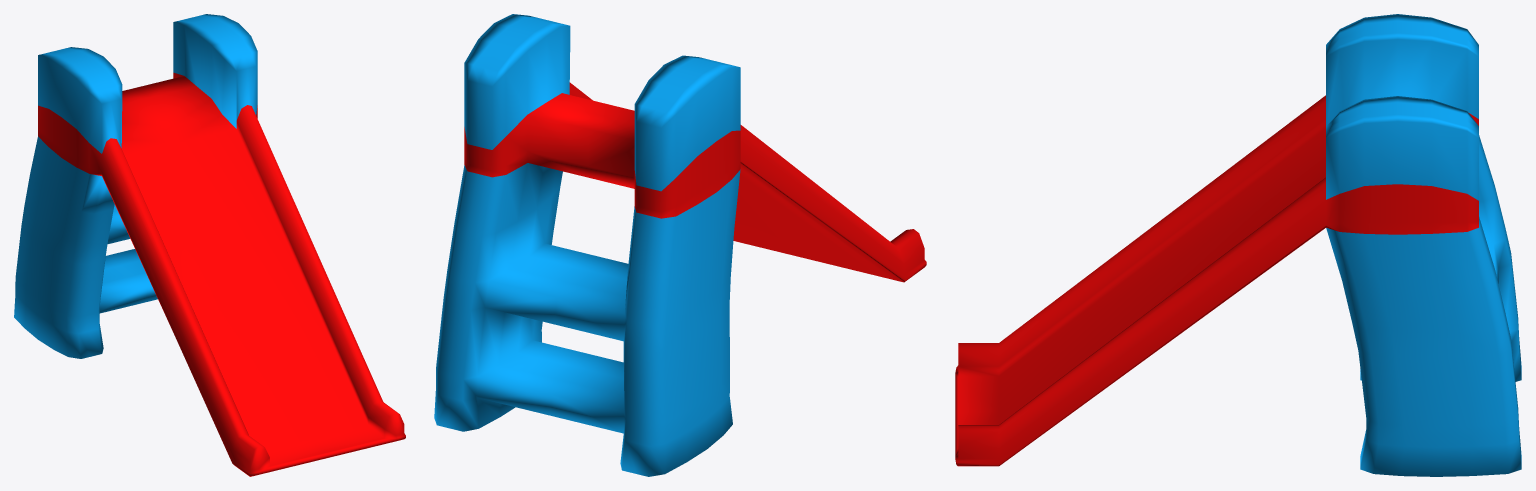
The model's file is Kiddie_Slide_Export.fbx.
The picture shows the model from 3 angles, left to right: view 1: azimuth 30°, elevation 25°; view 2: azimuth 150°, elevation 25°; view 3: azimuth 270°, elevation 25°; orthographic projection. The views are drawn at different scales.
Parts seen in each view (by area): view 1: pCube3; view 2: pCube3; view 3: pCube3.
Part boxes in pixels (x1,y1,x2,y2): pCube3: (14, 14, 405, 476); pCube3: (434, 14, 926, 476); pCube3: (955, 14, 1521, 476).
Size of the model in its own units: 3.89 by 5.45 by 7.95.
Materials: 1 (1 with a texture image).
